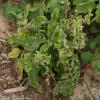Tomato leaf yellow virus: (12, 34, 35, 49), (31, 16, 48, 32), (28, 74, 41, 92), (51, 28, 62, 42), (39, 43, 51, 53), (52, 8, 59, 23), (60, 72, 71, 81), (24, 64, 33, 74), (53, 45, 63, 50), (61, 61, 69, 66), (70, 61, 76, 66), (34, 57, 39, 63)
